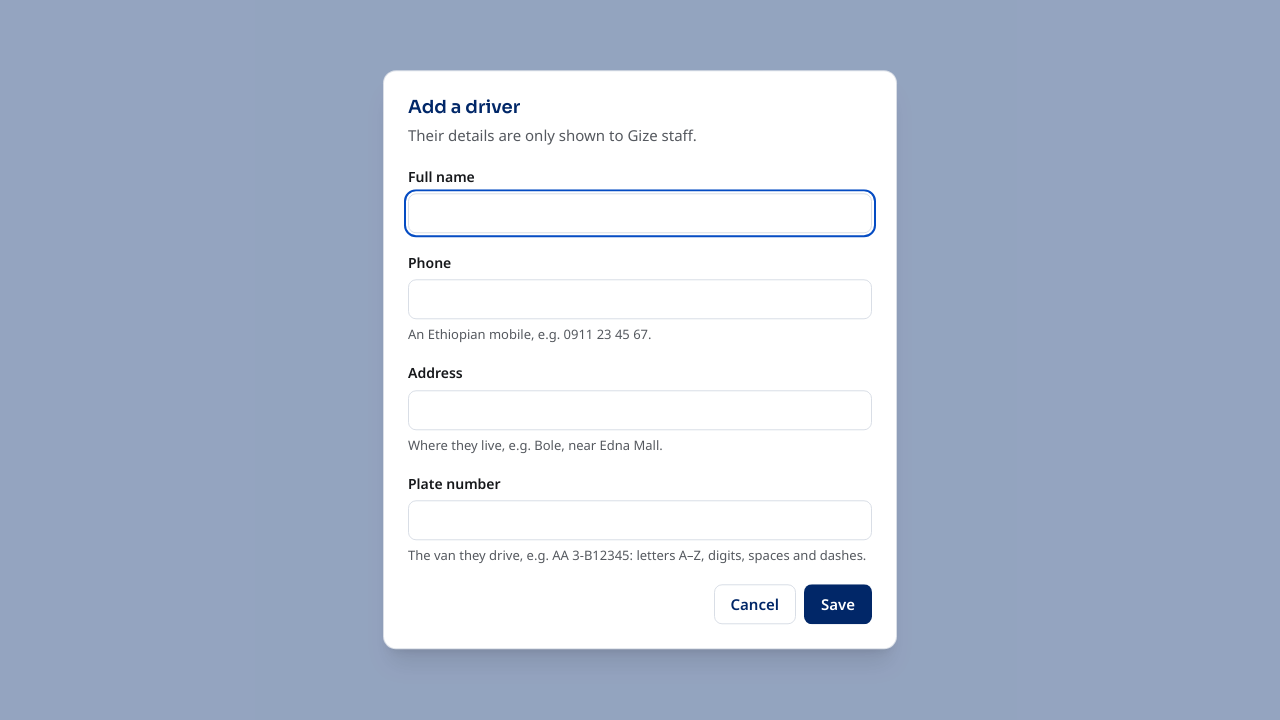
DriverFormDialog: adding › shows DRIVER_EXISTS on its field
Type "  Fikru Hailu " into the field labelled "Full name" at (640, 213), box [408,193,872,233]
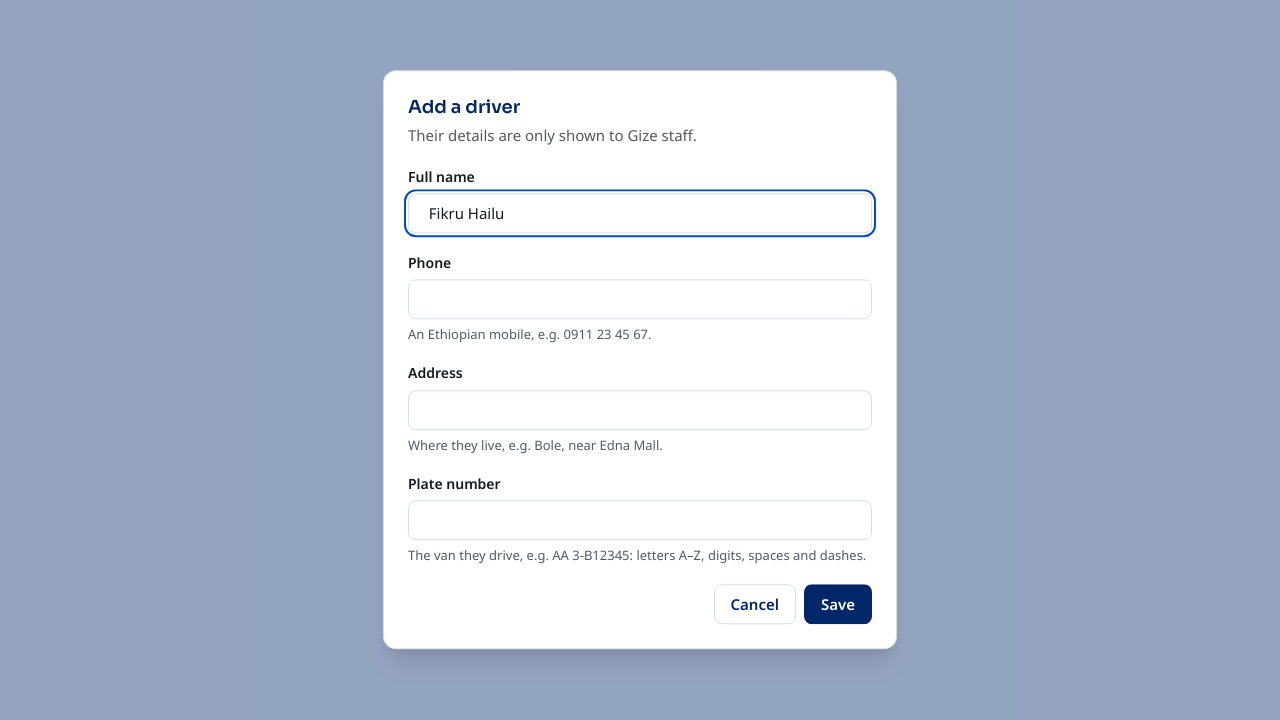
Type "0922 34 56 78" into the field labelled "Phone" at (640, 300), box [408,280,872,320]
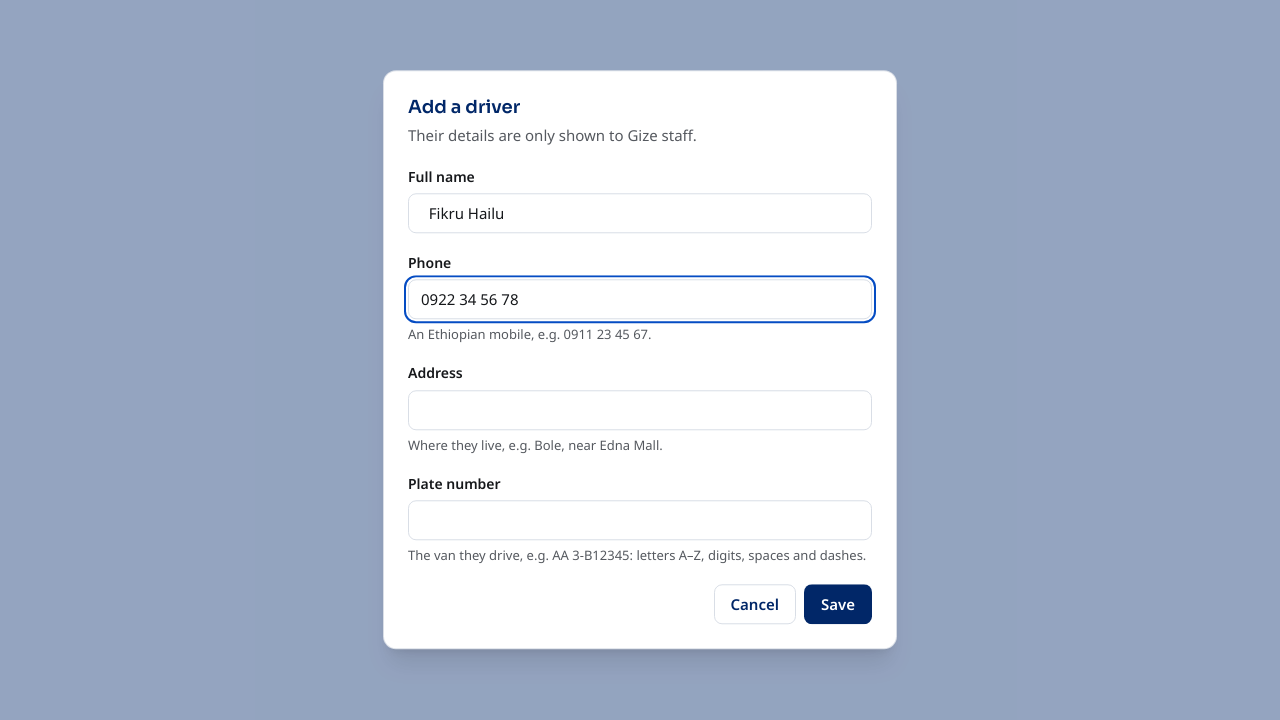
Type "Ayat, block 12" into the field labelled "Address" at (640, 410), box [408,390,872,430]
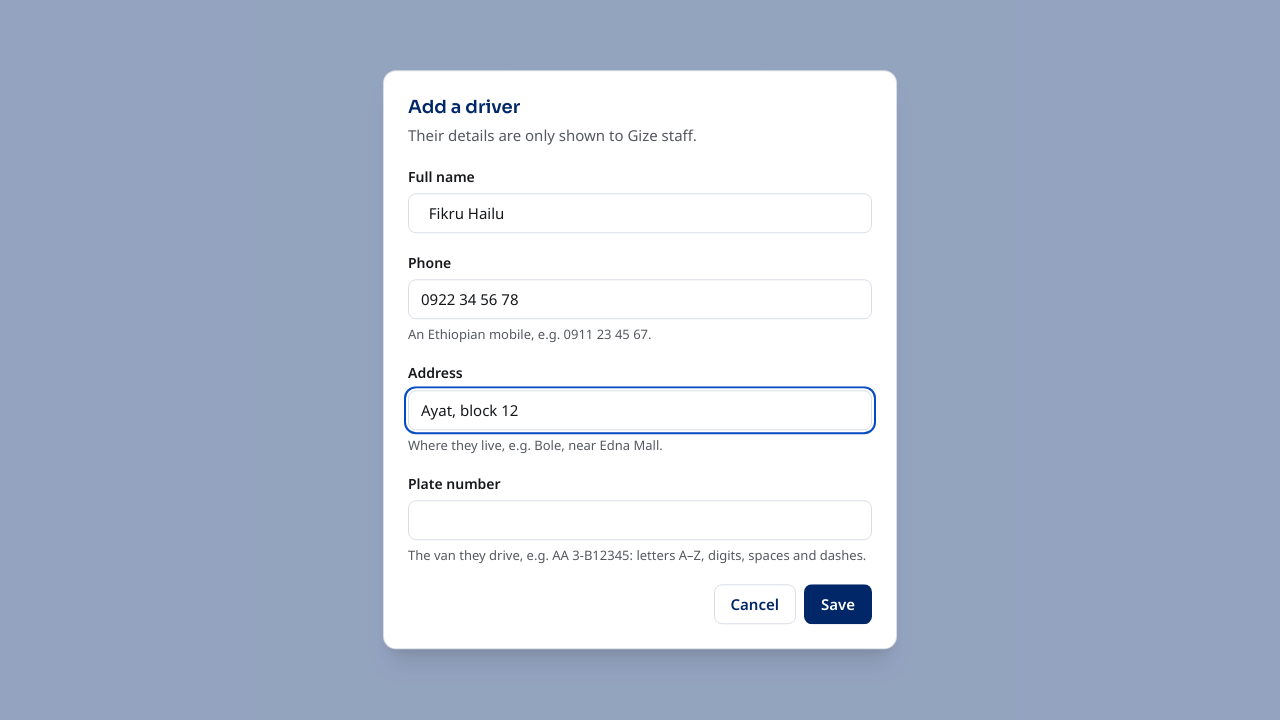
Type "aa 3-b54321" into the field labelled "Plate number" at (640, 520), box [408,500,872,540]
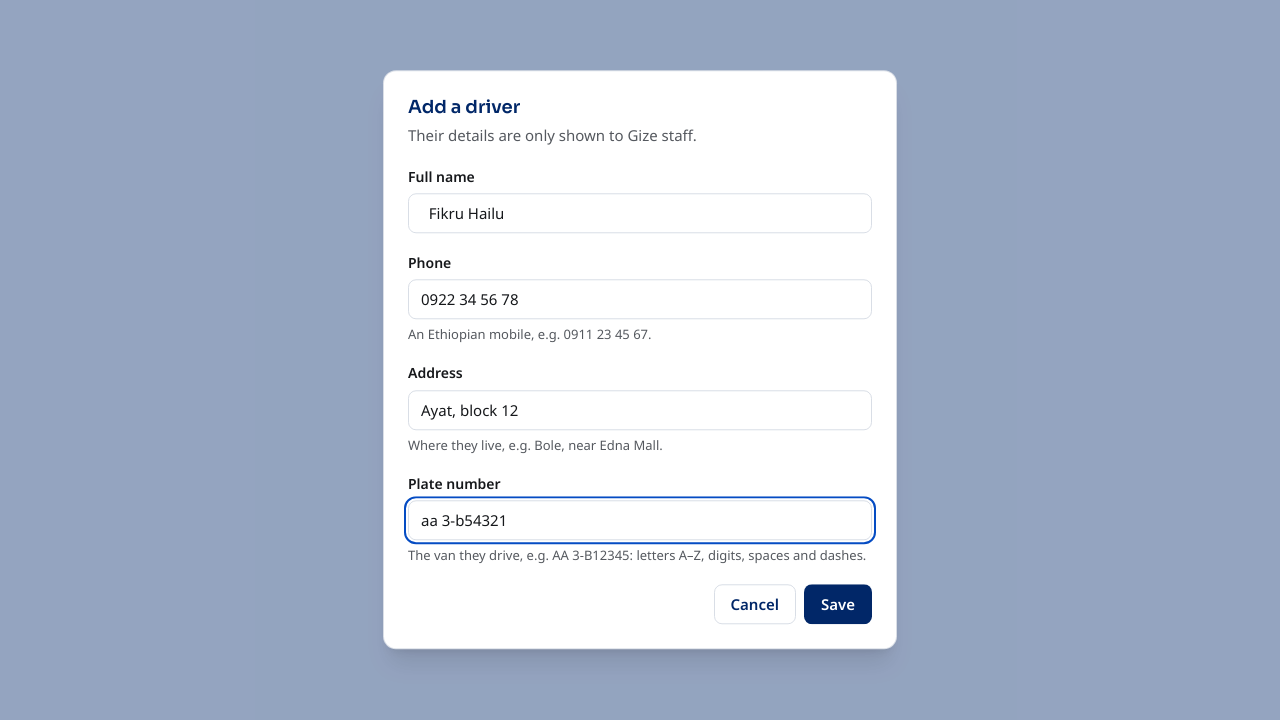
Click the button "Save" at (838, 605), box [804,585,872,625]
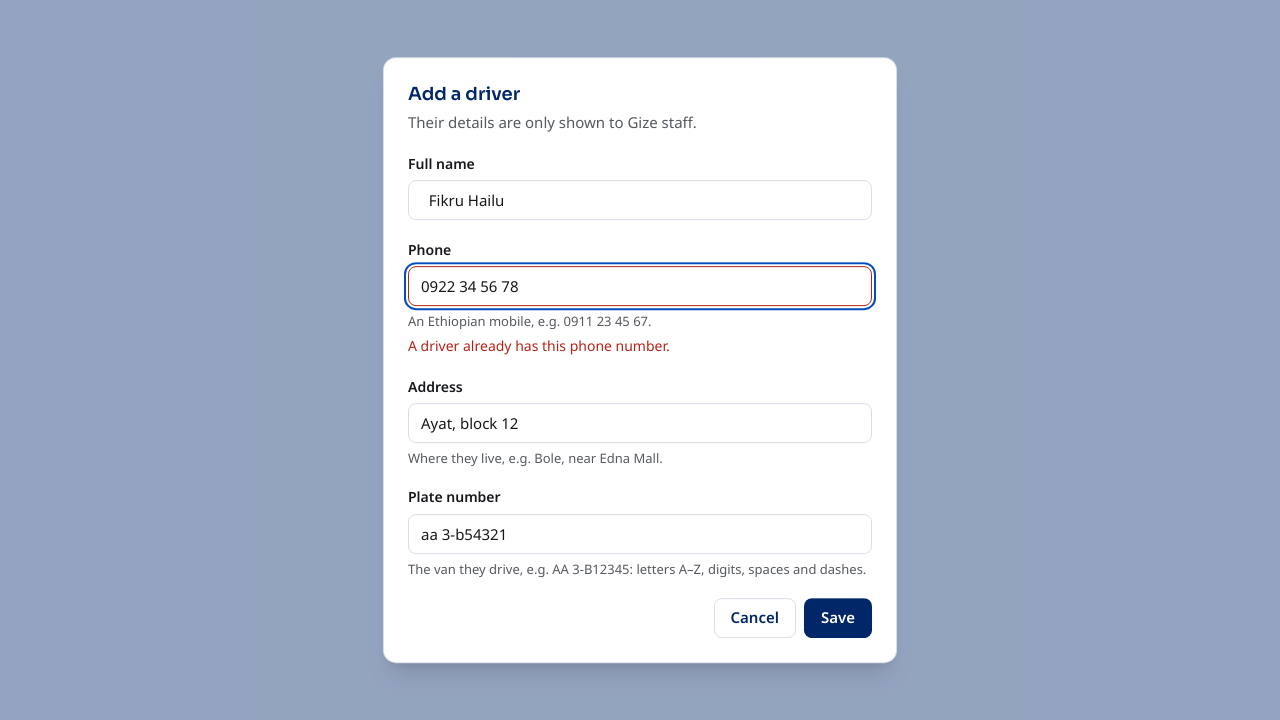
Check: the field labelled "Phone" is marked as invalid, box [408,266,872,306]
